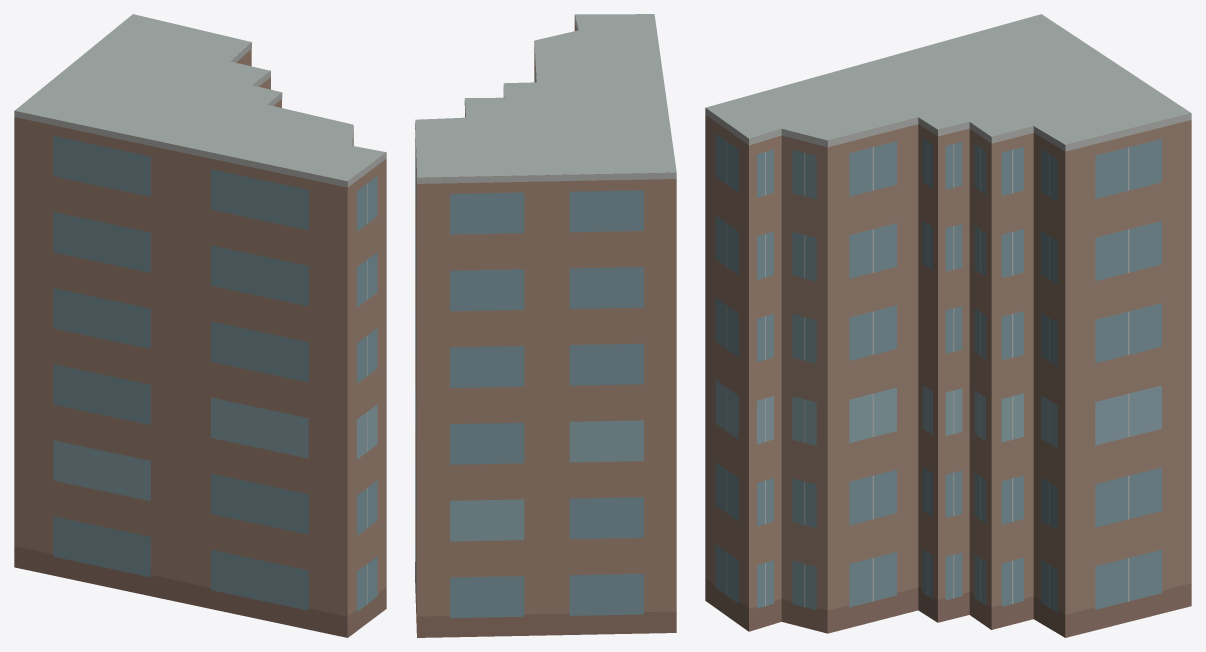
The model's file is survey-upis-32990784.glb.
The picture shows the model from 3 angles, left to right: view 1: azimuth 30°, elevation 25°; view 2: azimuth 150°, elevation 25°; view 3: azimuth 270°, elevation 25°; orthographic projection. The views are drawn at different scales.
Parts seen in each view (by area): view 1: survey-upis-32990784.tmp; view 2: survey-upis-32990784.tmp; view 3: survey-upis-32990784.tmp.
Part boxes in pixels (x1,y1,x2,y2): survey-upis-32990784.tmp: (14, 14, 386, 637); survey-upis-32990784.tmp: (415, 14, 676, 637); survey-upis-32990784.tmp: (705, 14, 1191, 637).
Size of the model in its own units: 10.09 by 17.7 by 15.83.
